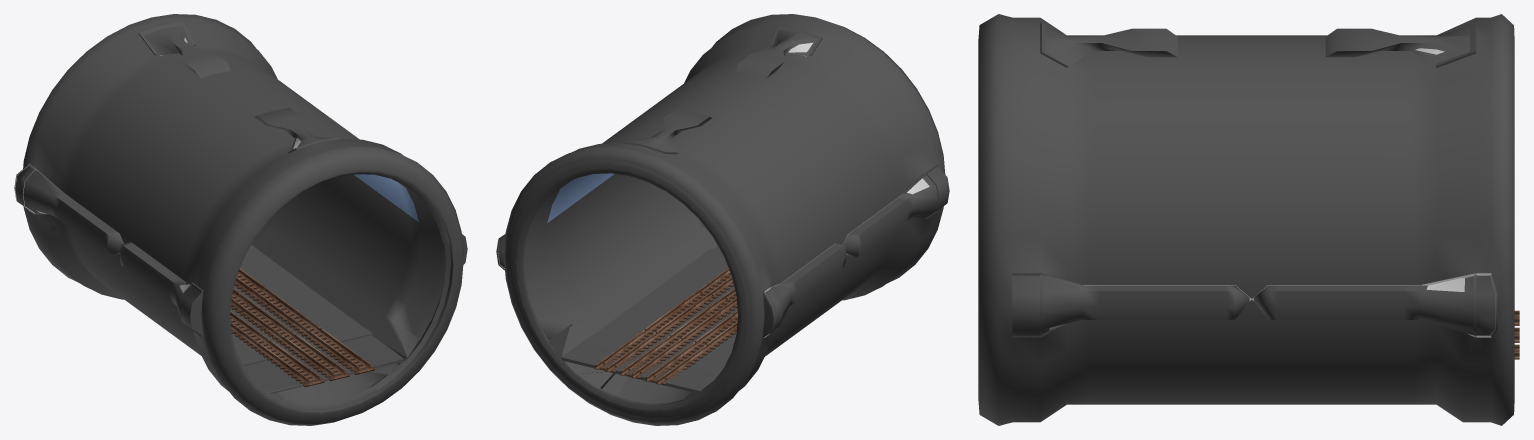
The model's file is subw_straight.fbx.
3 views of the same model, side by side, from view 1: azimuth 30°, elevation 25°; view 2: azimuth 150°, elevation 25°; view 3: azimuth 270°, elevation 25° (orthographic). The views are drawn at different scales.
Parts seen in each view (by area): view 1: sw_S_tube, sw_S_LaR, sw_S_LaM, sw_S_LaL; view 2: sw_S_tube, sw_S_LaR, sw_S_LaM, sw_S_LaL; view 3: sw_S_tube.
Part boxes in pixels (<box>): sw_S_tube: <box>14,14,467,425</box>; sw_S_LaR: <box>234,268,374,374</box>; sw_S_LaM: <box>231,288,349,381</box>; sw_S_LaL: <box>230,311,324,387</box>; sw_S_tube: <box>496,14,949,425</box>; sw_S_LaR: <box>594,267,733,372</box>; sw_S_LaM: <box>620,288,737,378</box>; sw_S_LaL: <box>645,310,737,384</box>; sw_S_tube: <box>978,14,1514,425</box>.
Size of the model in its own units: 199 by 185 by 242.
Materials: 4 (1 with a texture image).
